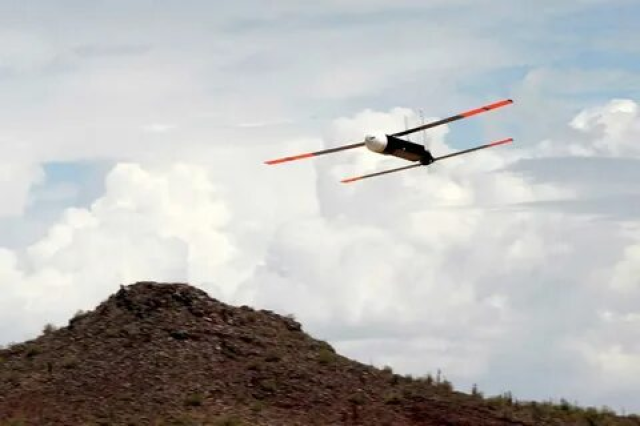military drone: (264, 98, 513, 183)
